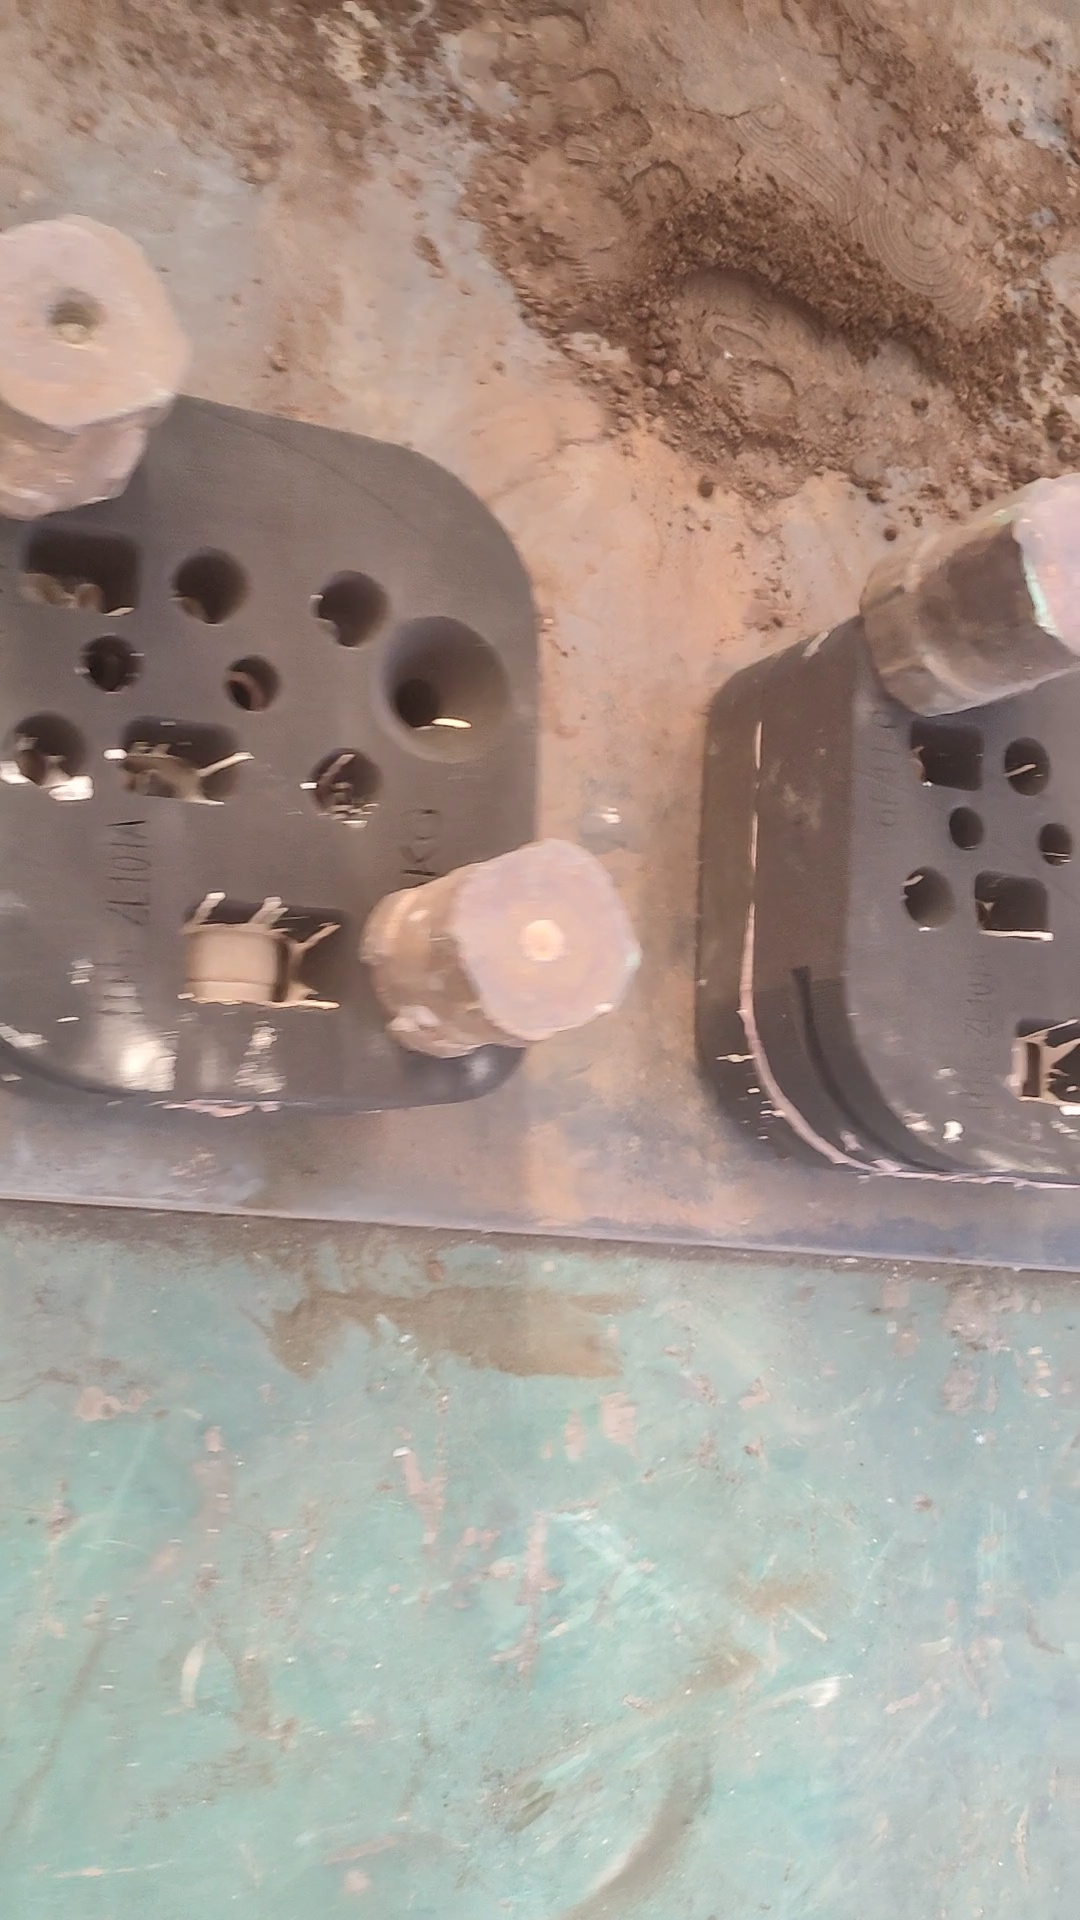pouring hole: (371, 615, 512, 765)
